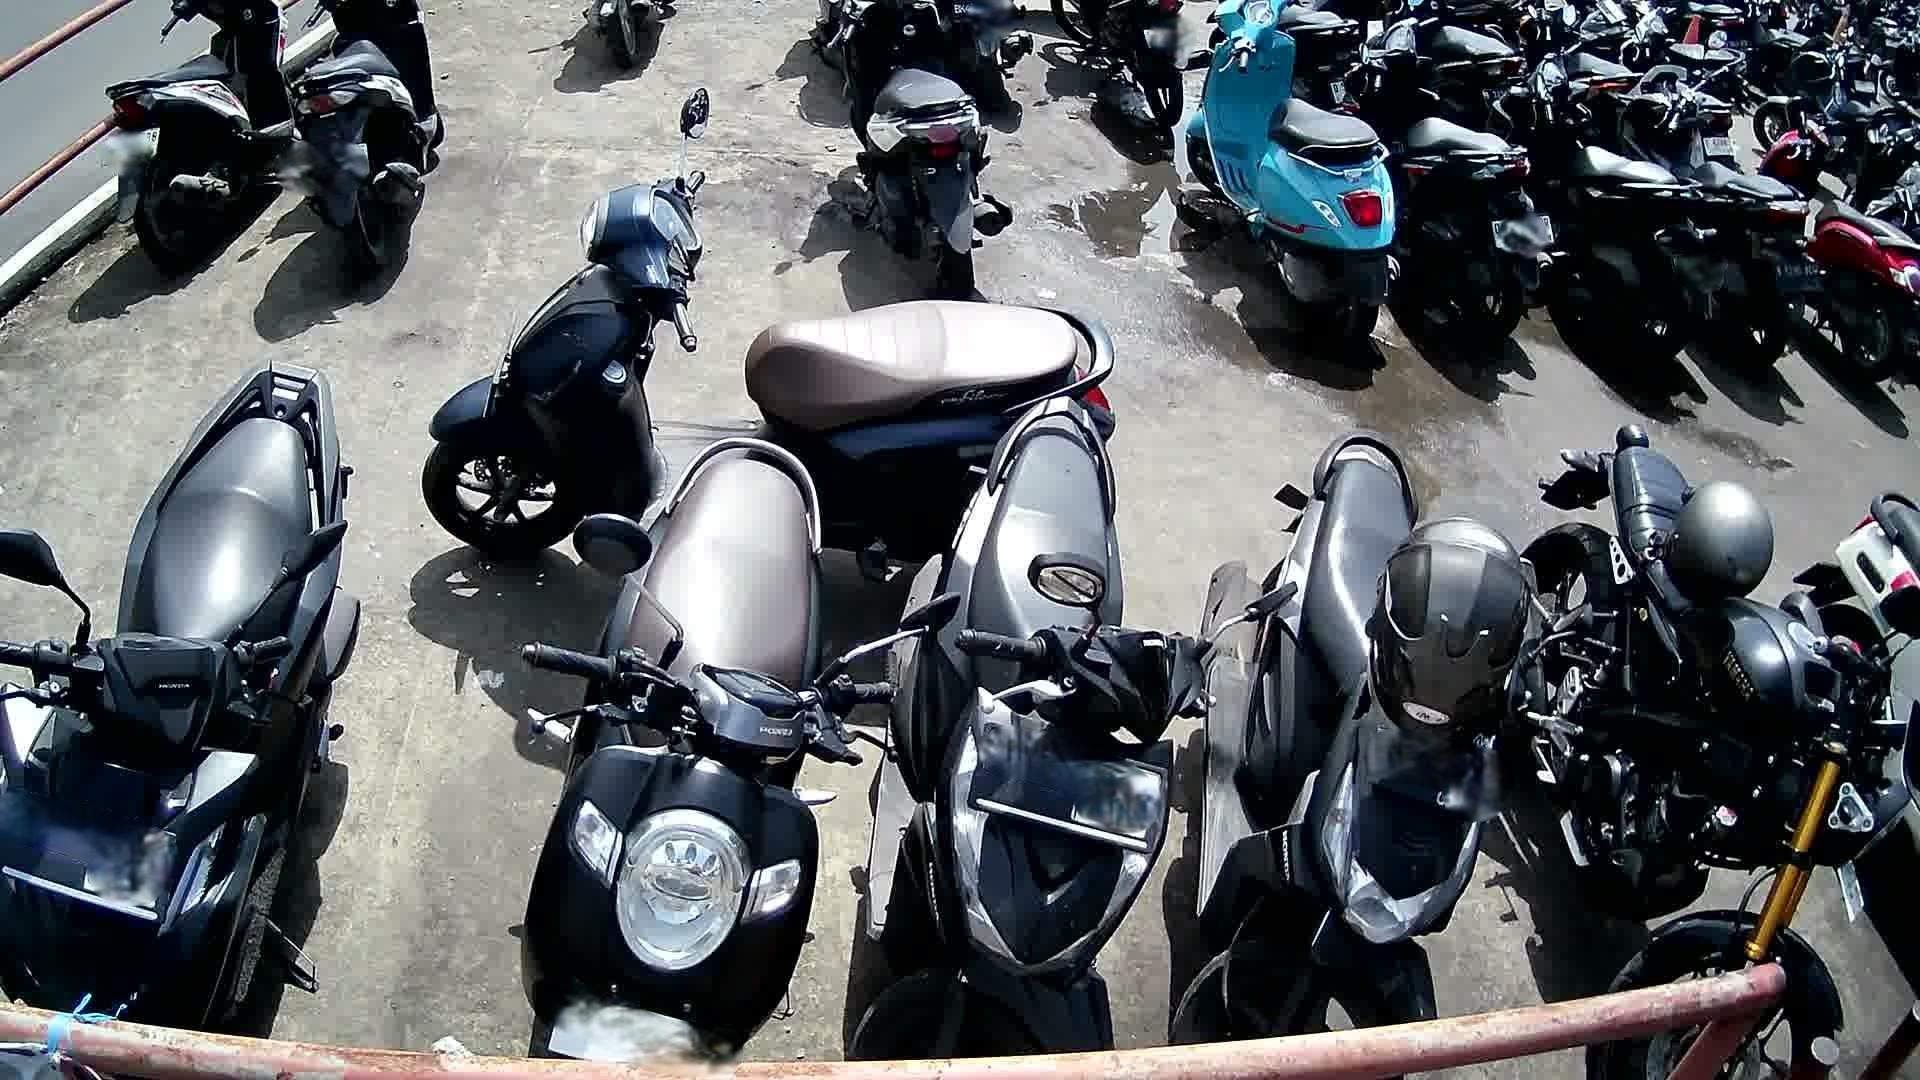motorcycle: (421, 88, 1114, 561), (849, 395, 1260, 1080), (514, 435, 933, 1080), (1528, 424, 1920, 1080), (0, 362, 362, 1033), (1170, 432, 1526, 1080), (1329, 13, 1568, 354), (1180, 0, 1403, 361), (1484, 34, 1720, 366), (1609, 60, 1826, 380), (823, 0, 1021, 303), (100, 0, 291, 278), (1783, 492, 1920, 866), (285, 0, 451, 284), (1760, 107, 1920, 386)
